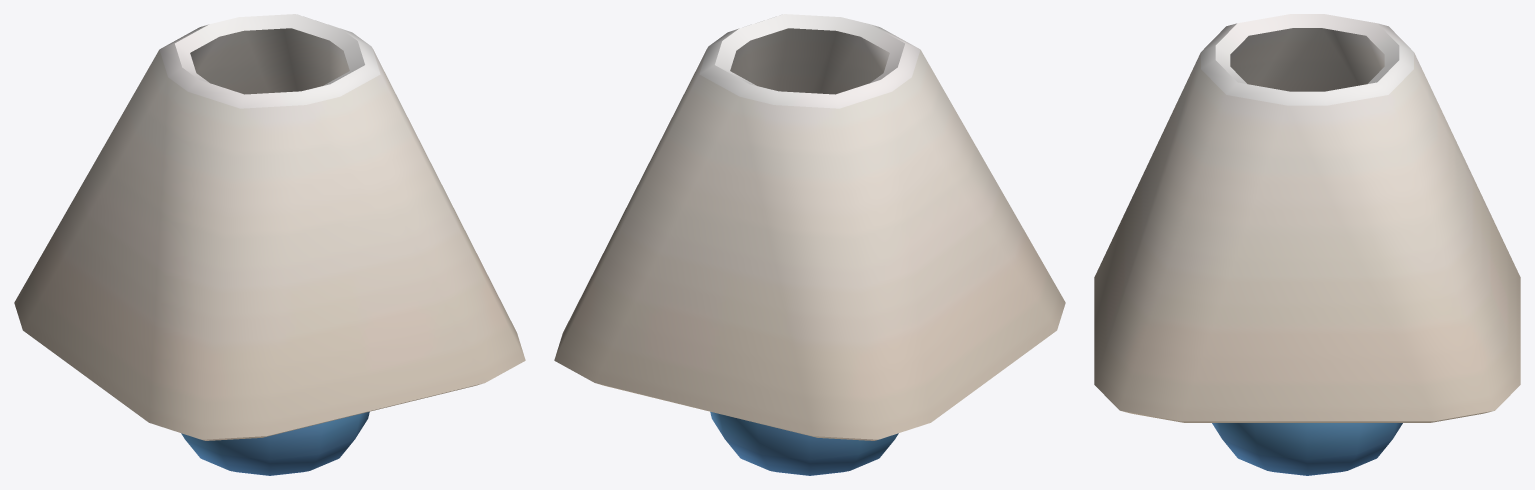
Rendered from lamp_table.glb.
The picture shows the model from 3 angles, left to right: view 1: azimuth 30°, elevation 25°; view 2: azimuth 150°, elevation 25°; view 3: azimuth 270°, elevation 25°; orthographic projection.
Parts seen in each view (by area): view 1: lamp_table; view 2: lamp_table; view 3: lamp_table.
Boxes of the visible parts, left/top/right/bottom form: lamp_table: left=14, top=14, right=525, bottom=475; lamp_table: left=554, top=14, right=1065, bottom=475; lamp_table: left=1094, top=14, right=1520, bottom=475.
Bounding box in the file's own units: 1 × 1.02 × 1.
1 material, 1 textured.
